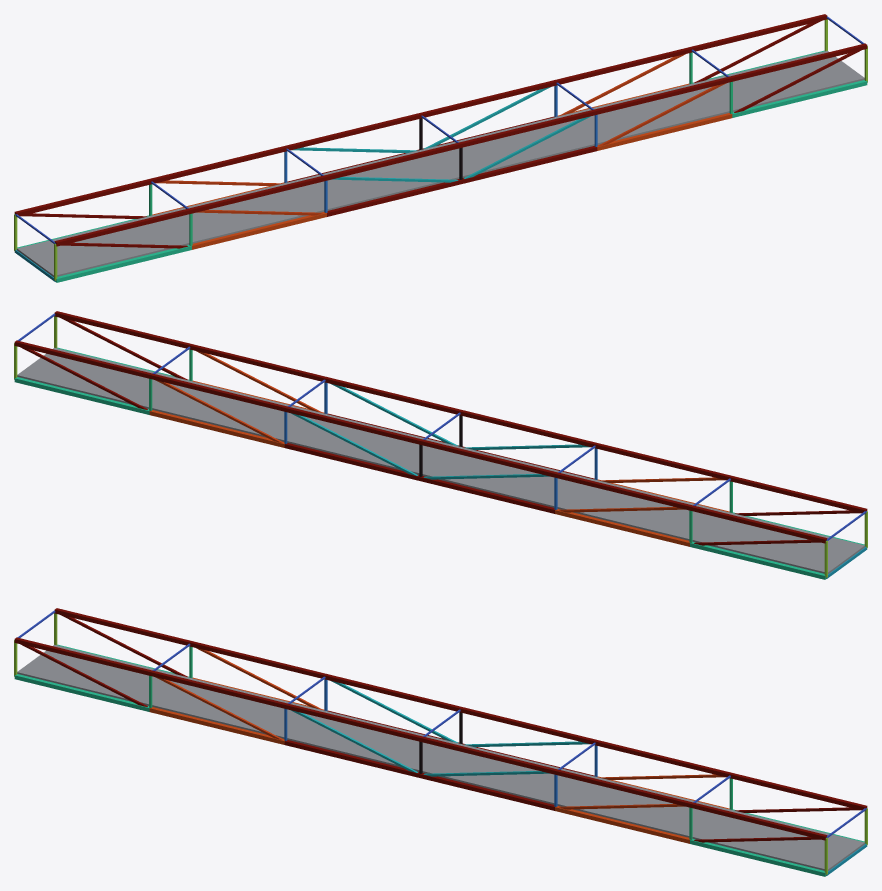
The model's file is 35_1.5_6_HEA160.glb.
3 renders of one model, top to bottom at view 1: azimuth 30°, elevation 25°; view 2: azimuth 150°, elevation 25°; view 3: azimuth 330°, elevation 25°, orthographic.
Bounding box in the file's own units: 35.09 × 1.66 × 3.16.
